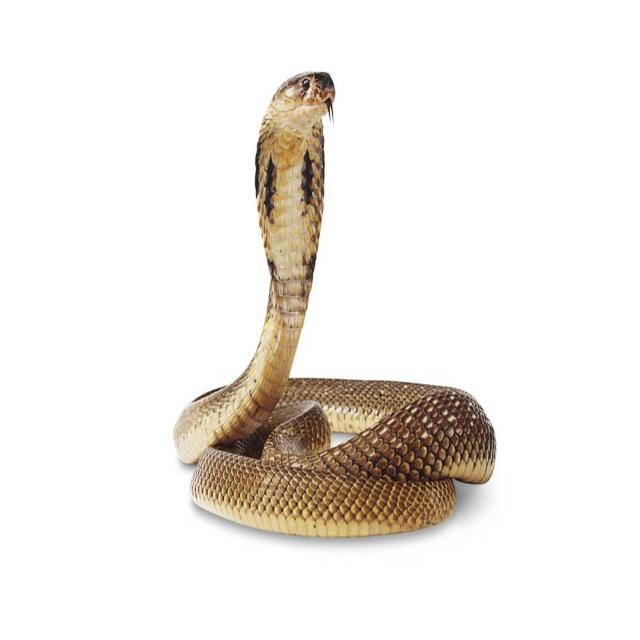Venomous: (241, 49, 345, 260)
